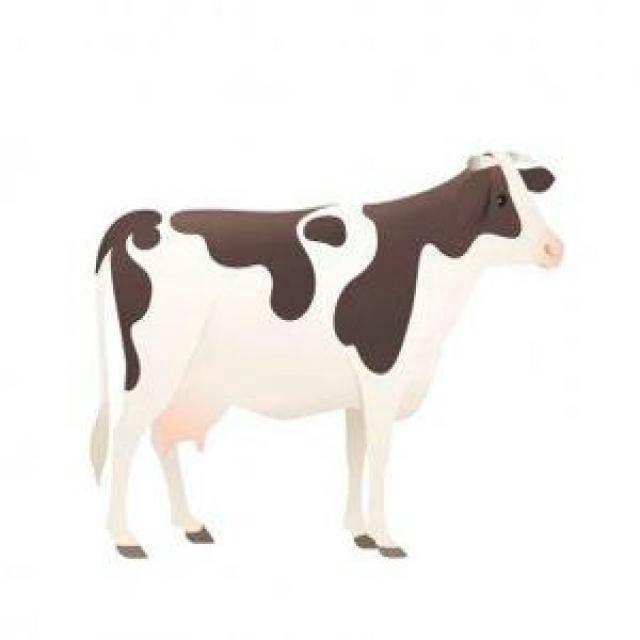cow: (92, 152, 562, 558)
